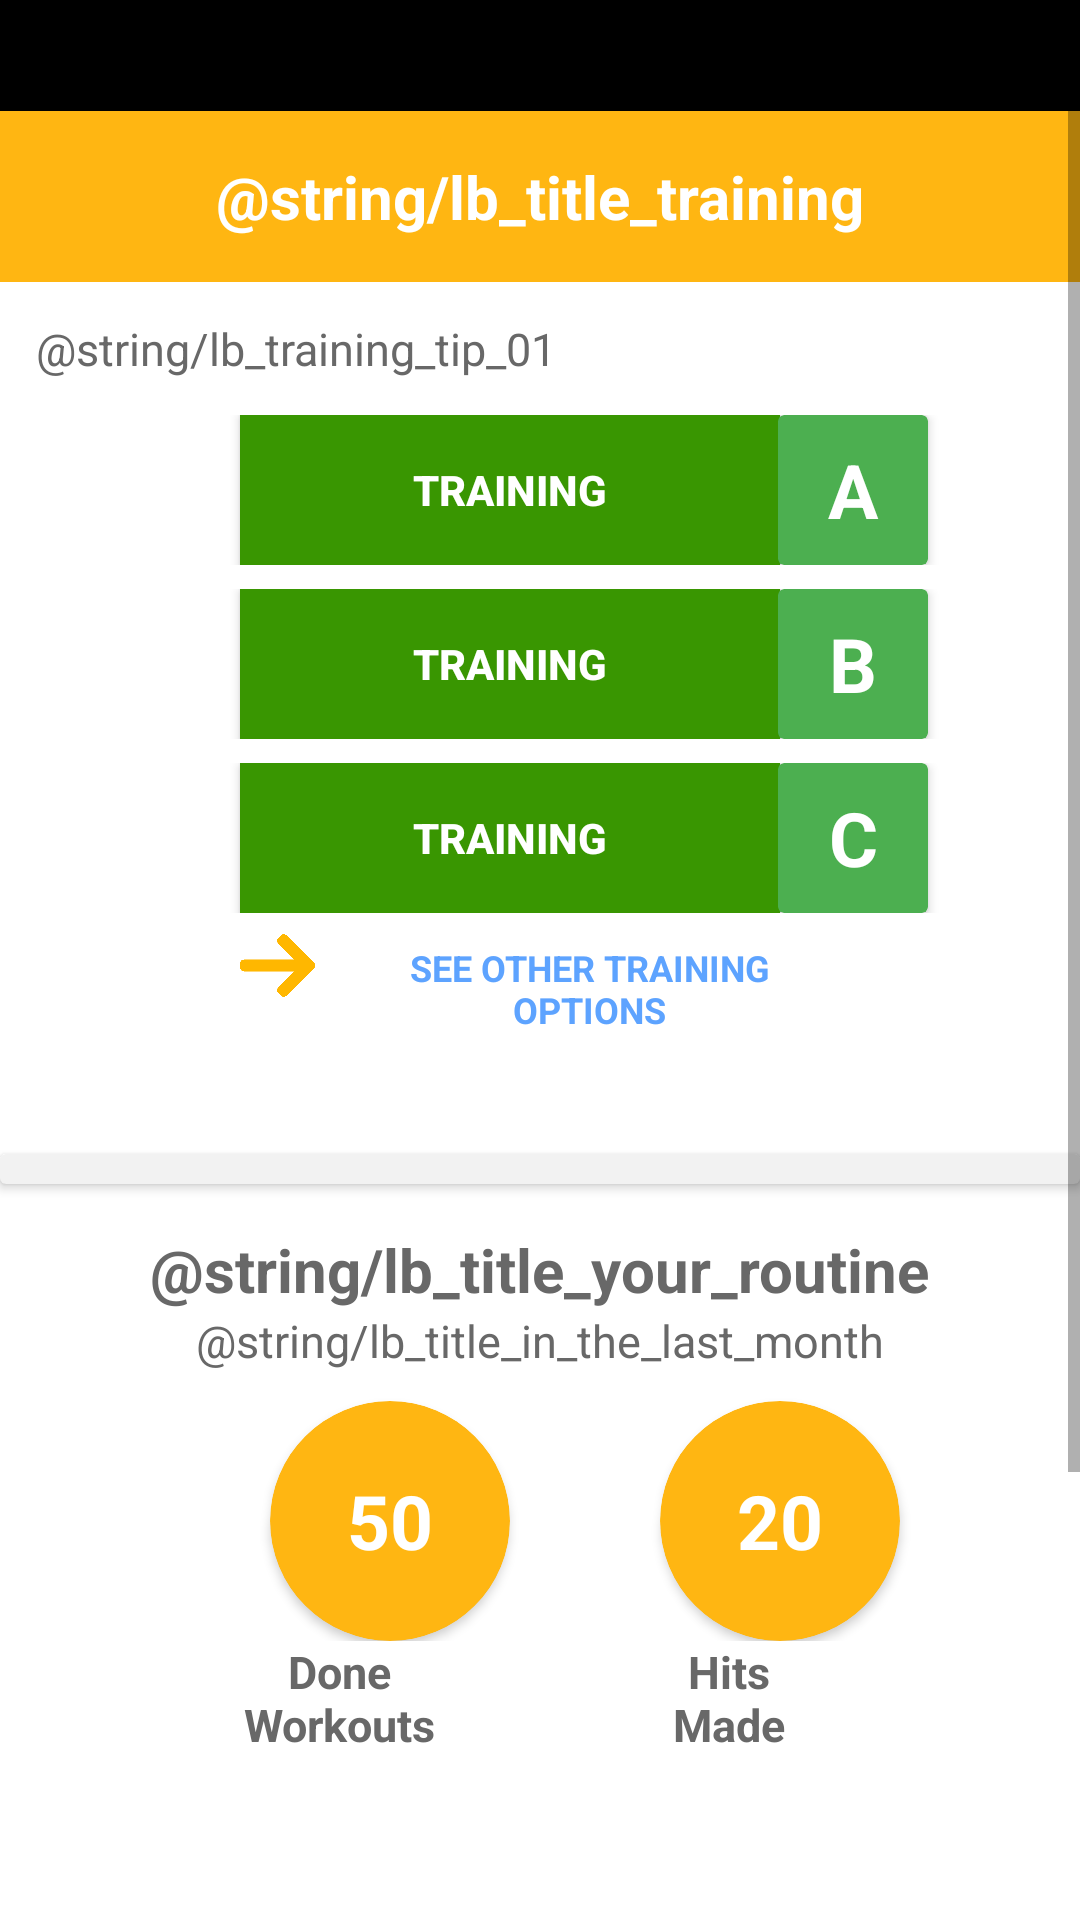

Screen size 1080px x 1920px. Icon name, then its center in pixels as (x=x, y=y):
arrow: (x=277, y=965)
